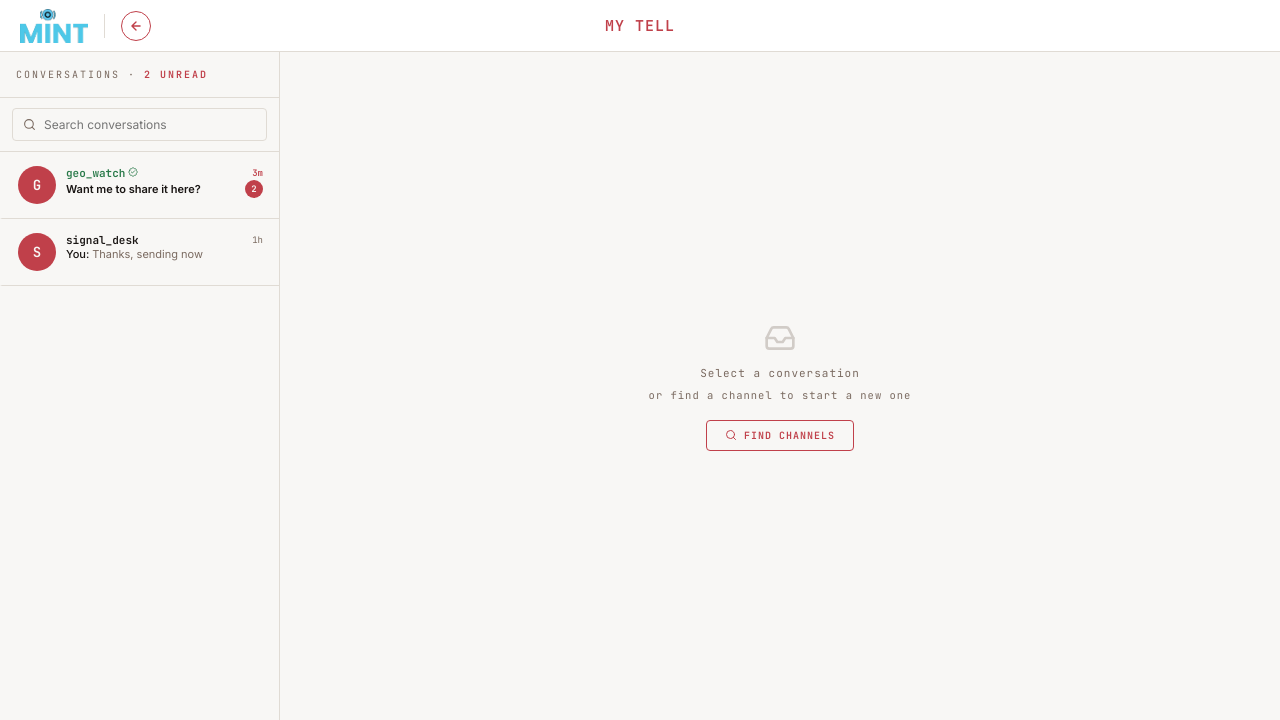
Scenario: MessagesPage › filters conversations by name or message text
Type "SIGNAL" into the search field labelled "Search conversations" at (151, 124), box x1=44 y1=109 x2=258 y2=140
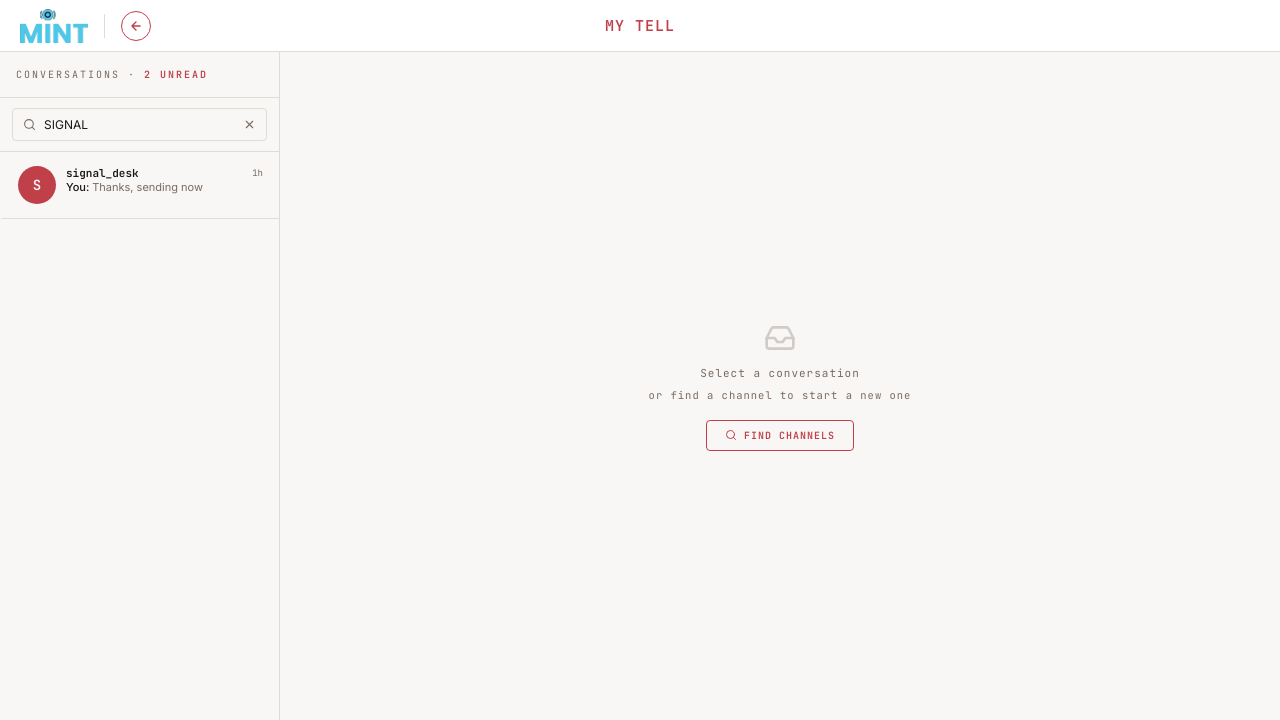
Expected: the text "signal_desk" is shown, x1=66 y1=166 x2=139 y2=180
Result: the text "geo_watch" is gone
Replace the text in the search field named "Search conversations" with "share it" at (138, 124), box x1=44 y1=109 x2=233 y2=140
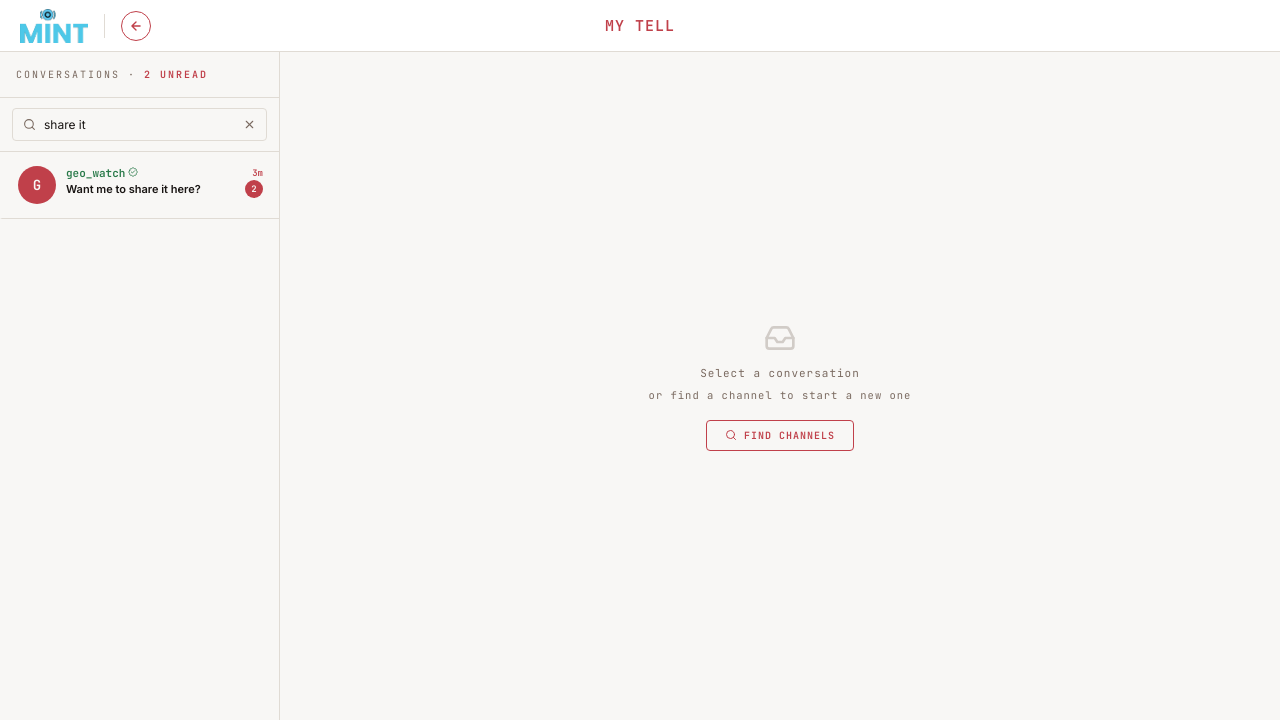
Result: the text "geo_watch" is shown at x1=66 y1=166 x2=138 y2=180
Result: the text "signal_desk" is gone
